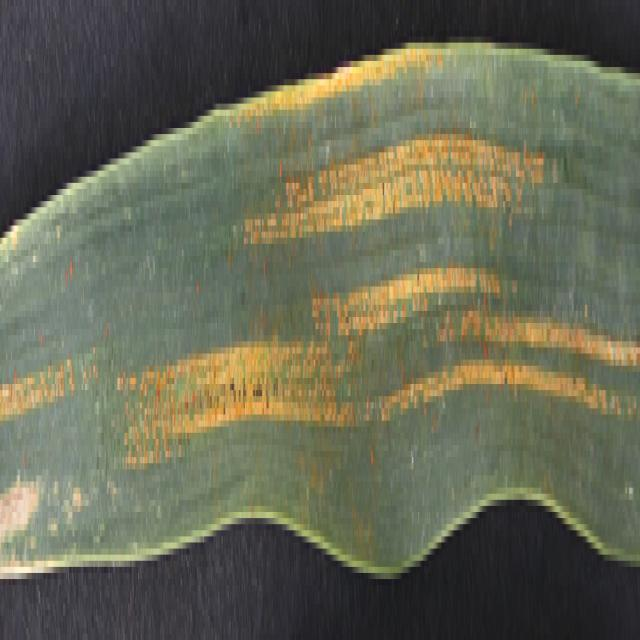leaf rust: (1, 85, 638, 500)
